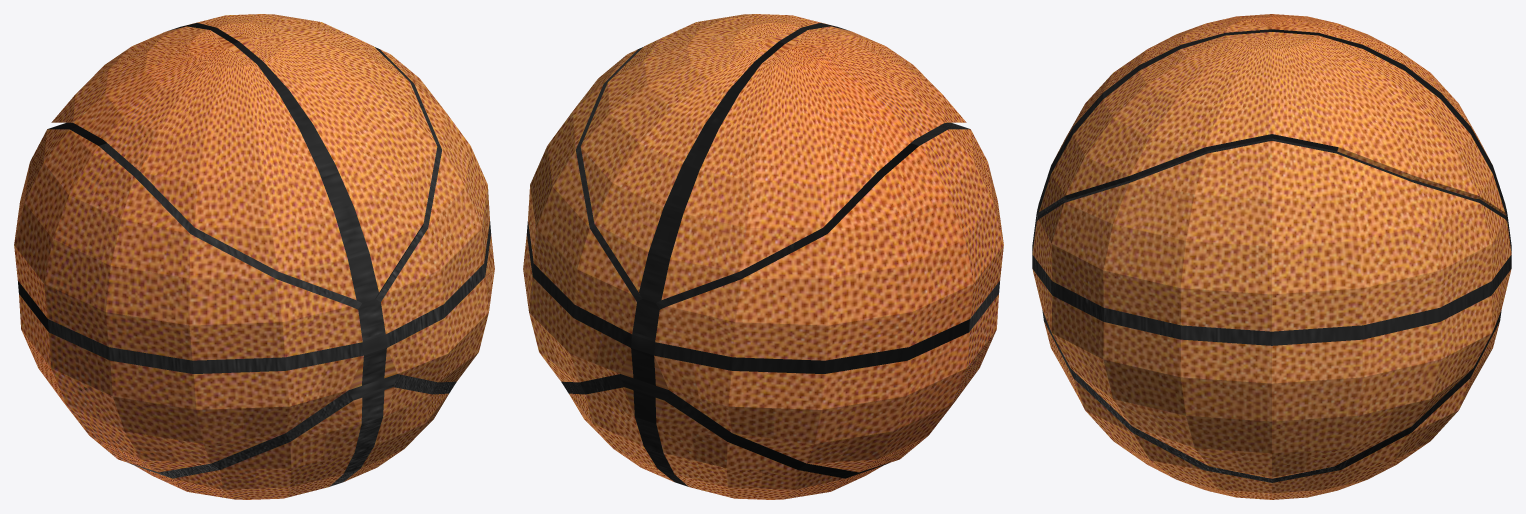
The model's file is basketballcourtanimationbouncing.glb.
3 views of the same model, side by side, from view 1: azimuth 30°, elevation 25°; view 2: azimuth 150°, elevation 25°; view 3: azimuth 270°, elevation 25° (orthographic).
Visible parts, largest first — view 1: ball; view 2: ball; view 3: ball.
Boxes of the visible parts, x1,y1,x2,y2 form: ball: (14, 14, 494, 499); ball: (523, 14, 1003, 499); ball: (1032, 14, 1511, 499).
Bounding box in the file's own units: 1.99 × 1.99 × 1.97.
2 materials, 2 textured.
